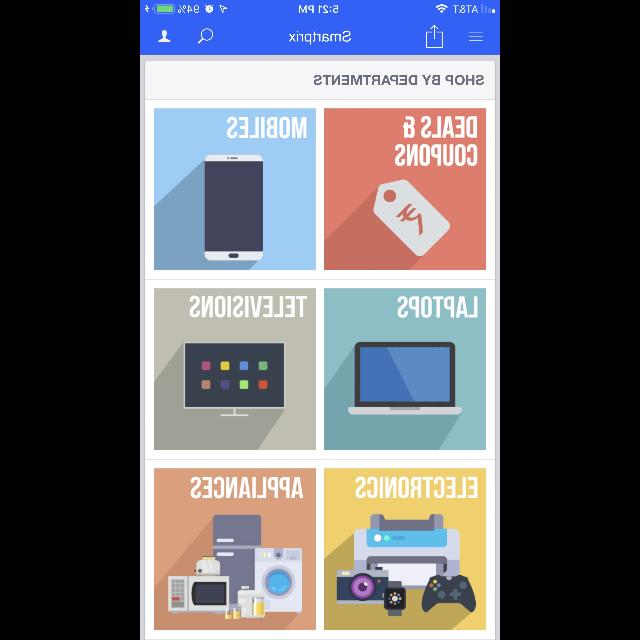icon: (426, 25, 442, 49), (198, 28, 212, 44), (158, 31, 170, 43), (468, 32, 482, 42)
image: (324, 108, 486, 270), (154, 108, 316, 270), (324, 288, 486, 450), (154, 288, 316, 450), (324, 468, 486, 630), (153, 468, 314, 630)
text: (394, 116, 478, 166), (355, 476, 477, 498), (190, 295, 306, 317), (190, 477, 304, 499), (314, 74, 484, 86), (397, 296, 478, 318), (228, 116, 306, 138), (289, 31, 351, 45)
uppertaskbar: (140, 0, 500, 14)
